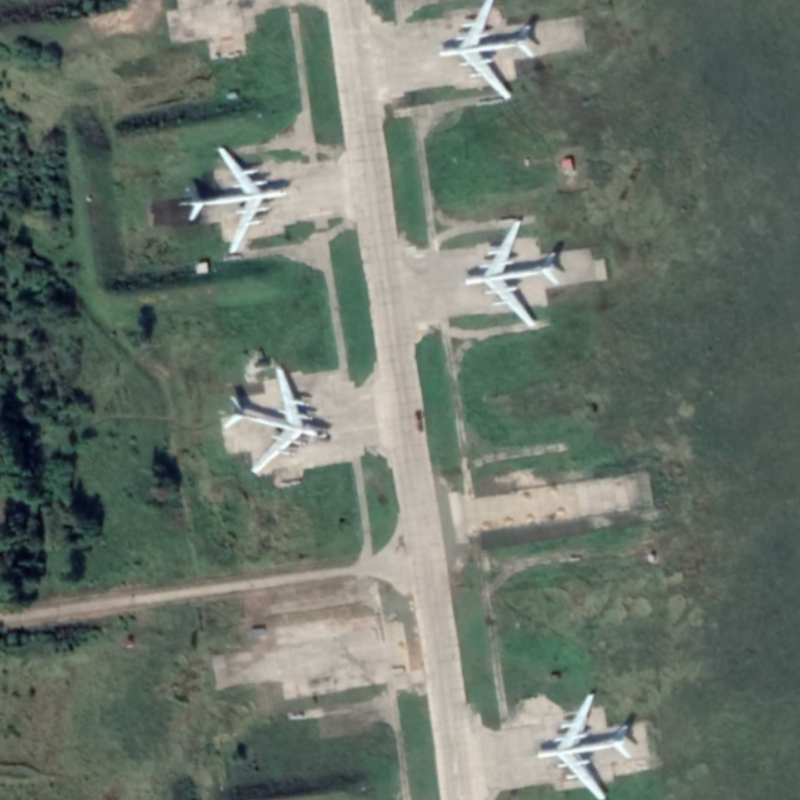A17: (217, 363, 329, 476), (177, 145, 287, 255), (462, 218, 562, 330), (534, 691, 634, 800), (436, 1, 537, 101)
